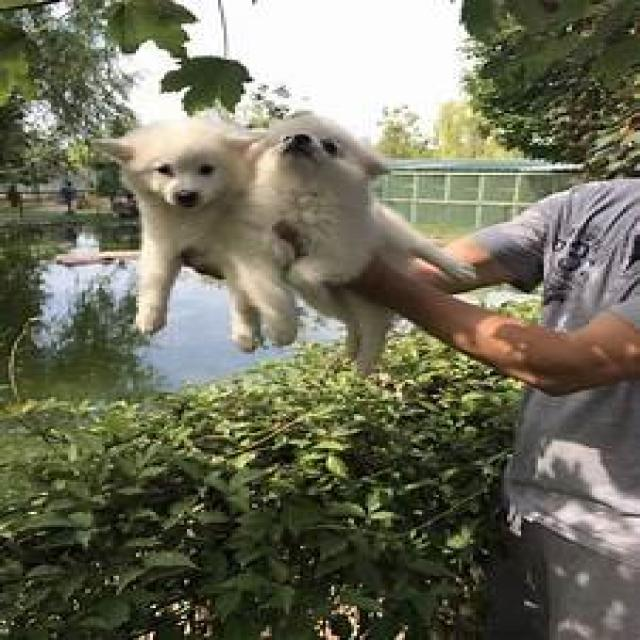KOPEK: (246, 109, 401, 357), (97, 115, 251, 346)
